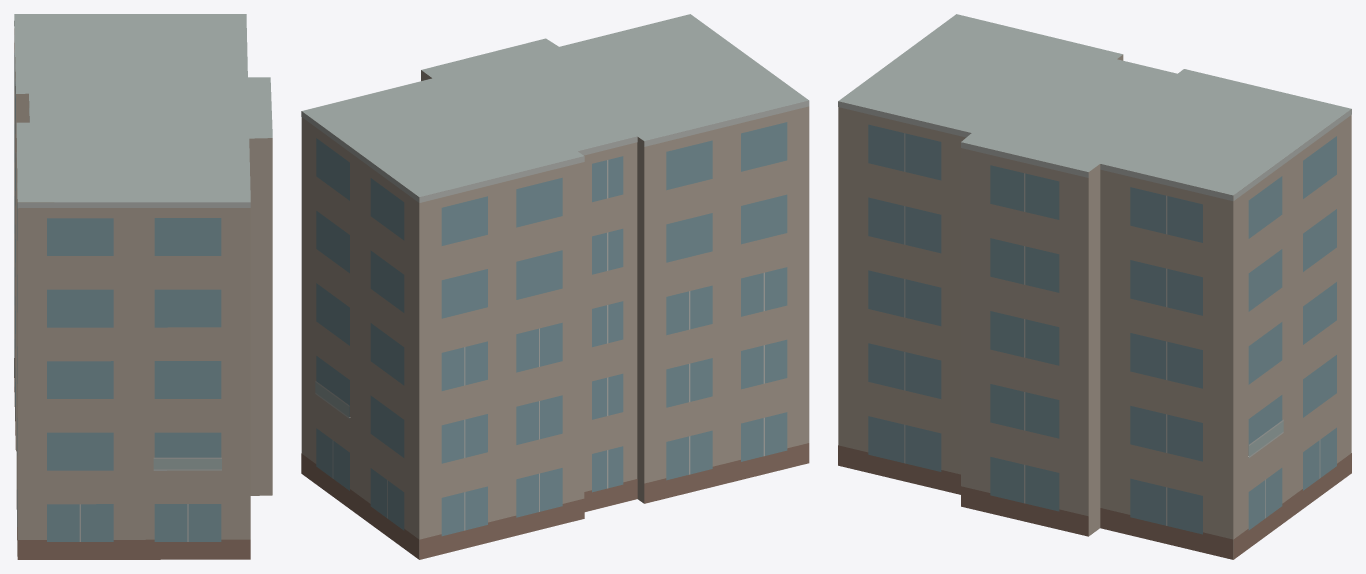
Rendered from survey-upis-32981683.glb.
3 renders of one model, left to right at view 1: azimuth 30°, elevation 25°; view 2: azimuth 150°, elevation 25°; view 3: azimuth 270°, elevation 25°, orthographic.
Visible parts, largest first — view 1: survey-upis-32981683.tmp; view 2: survey-upis-32981683.tmp; view 3: survey-upis-32981683.tmp.
Part boxes in pixels (box(x1,y1,x2,y2)): survey-upis-32981683.tmp: box(14, 14, 272, 559); survey-upis-32981683.tmp: box(301, 14, 809, 559); survey-upis-32981683.tmp: box(838, 14, 1351, 559).
Bounding box in the file's own units: 16.3 × 15.25 × 19.49.
